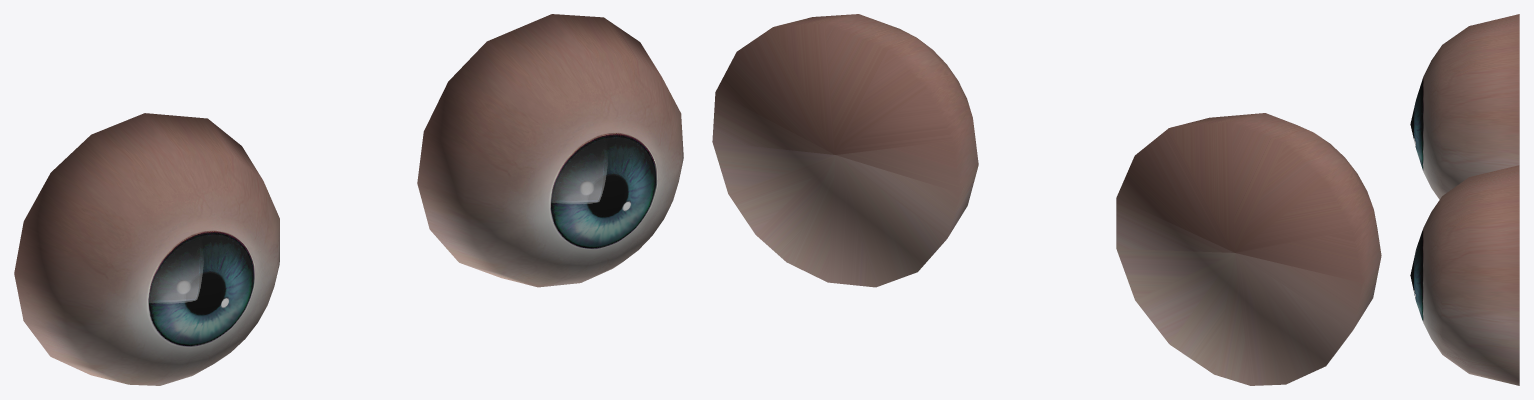
Rendered from eye2.glb.
The picture shows the model from 3 angles, left to right: view 1: azimuth 30°, elevation 25°; view 2: azimuth 150°, elevation 25°; view 3: azimuth 270°, elevation 25°; orthographic projection. The views are drawn at different scales.
Visible parts, largest first — view 1: EyeRight, EyeLeft; view 2: EyeLeft, EyeRight; view 3: EyeLeft, EyeRight.
Boxes of the visible parts, x1,y1,x2,y2 form: EyeRight: [14, 113, 279, 385]; EyeLeft: [417, 14, 683, 287]; EyeLeft: [712, 14, 978, 287]; EyeRight: [1116, 113, 1381, 385]; EyeLeft: [1410, 165, 1519, 385]; EyeRight: [1410, 14, 1519, 199].
Bounding box in the file's own units: 0.1023 × 0.0389 × 0.0193.
1 material, 1 textured.
